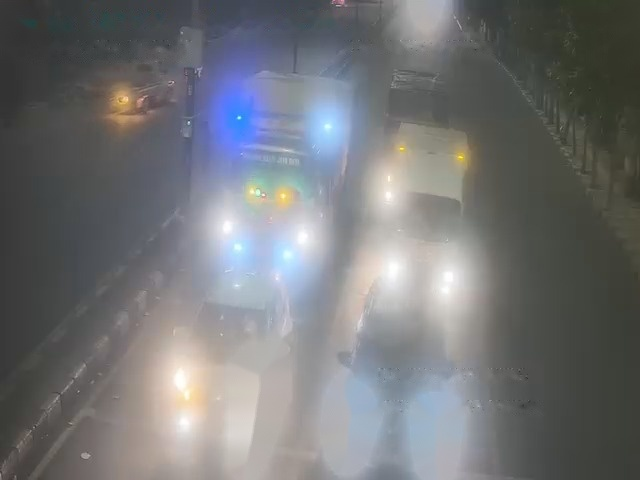Mobil: (180, 265, 290, 432), (355, 281, 445, 436)
Truk: (212, 59, 345, 260), (388, 118, 466, 278)
